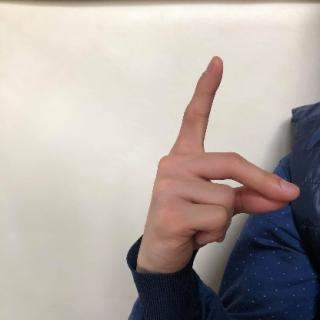TAA: (134, 50, 306, 279)
